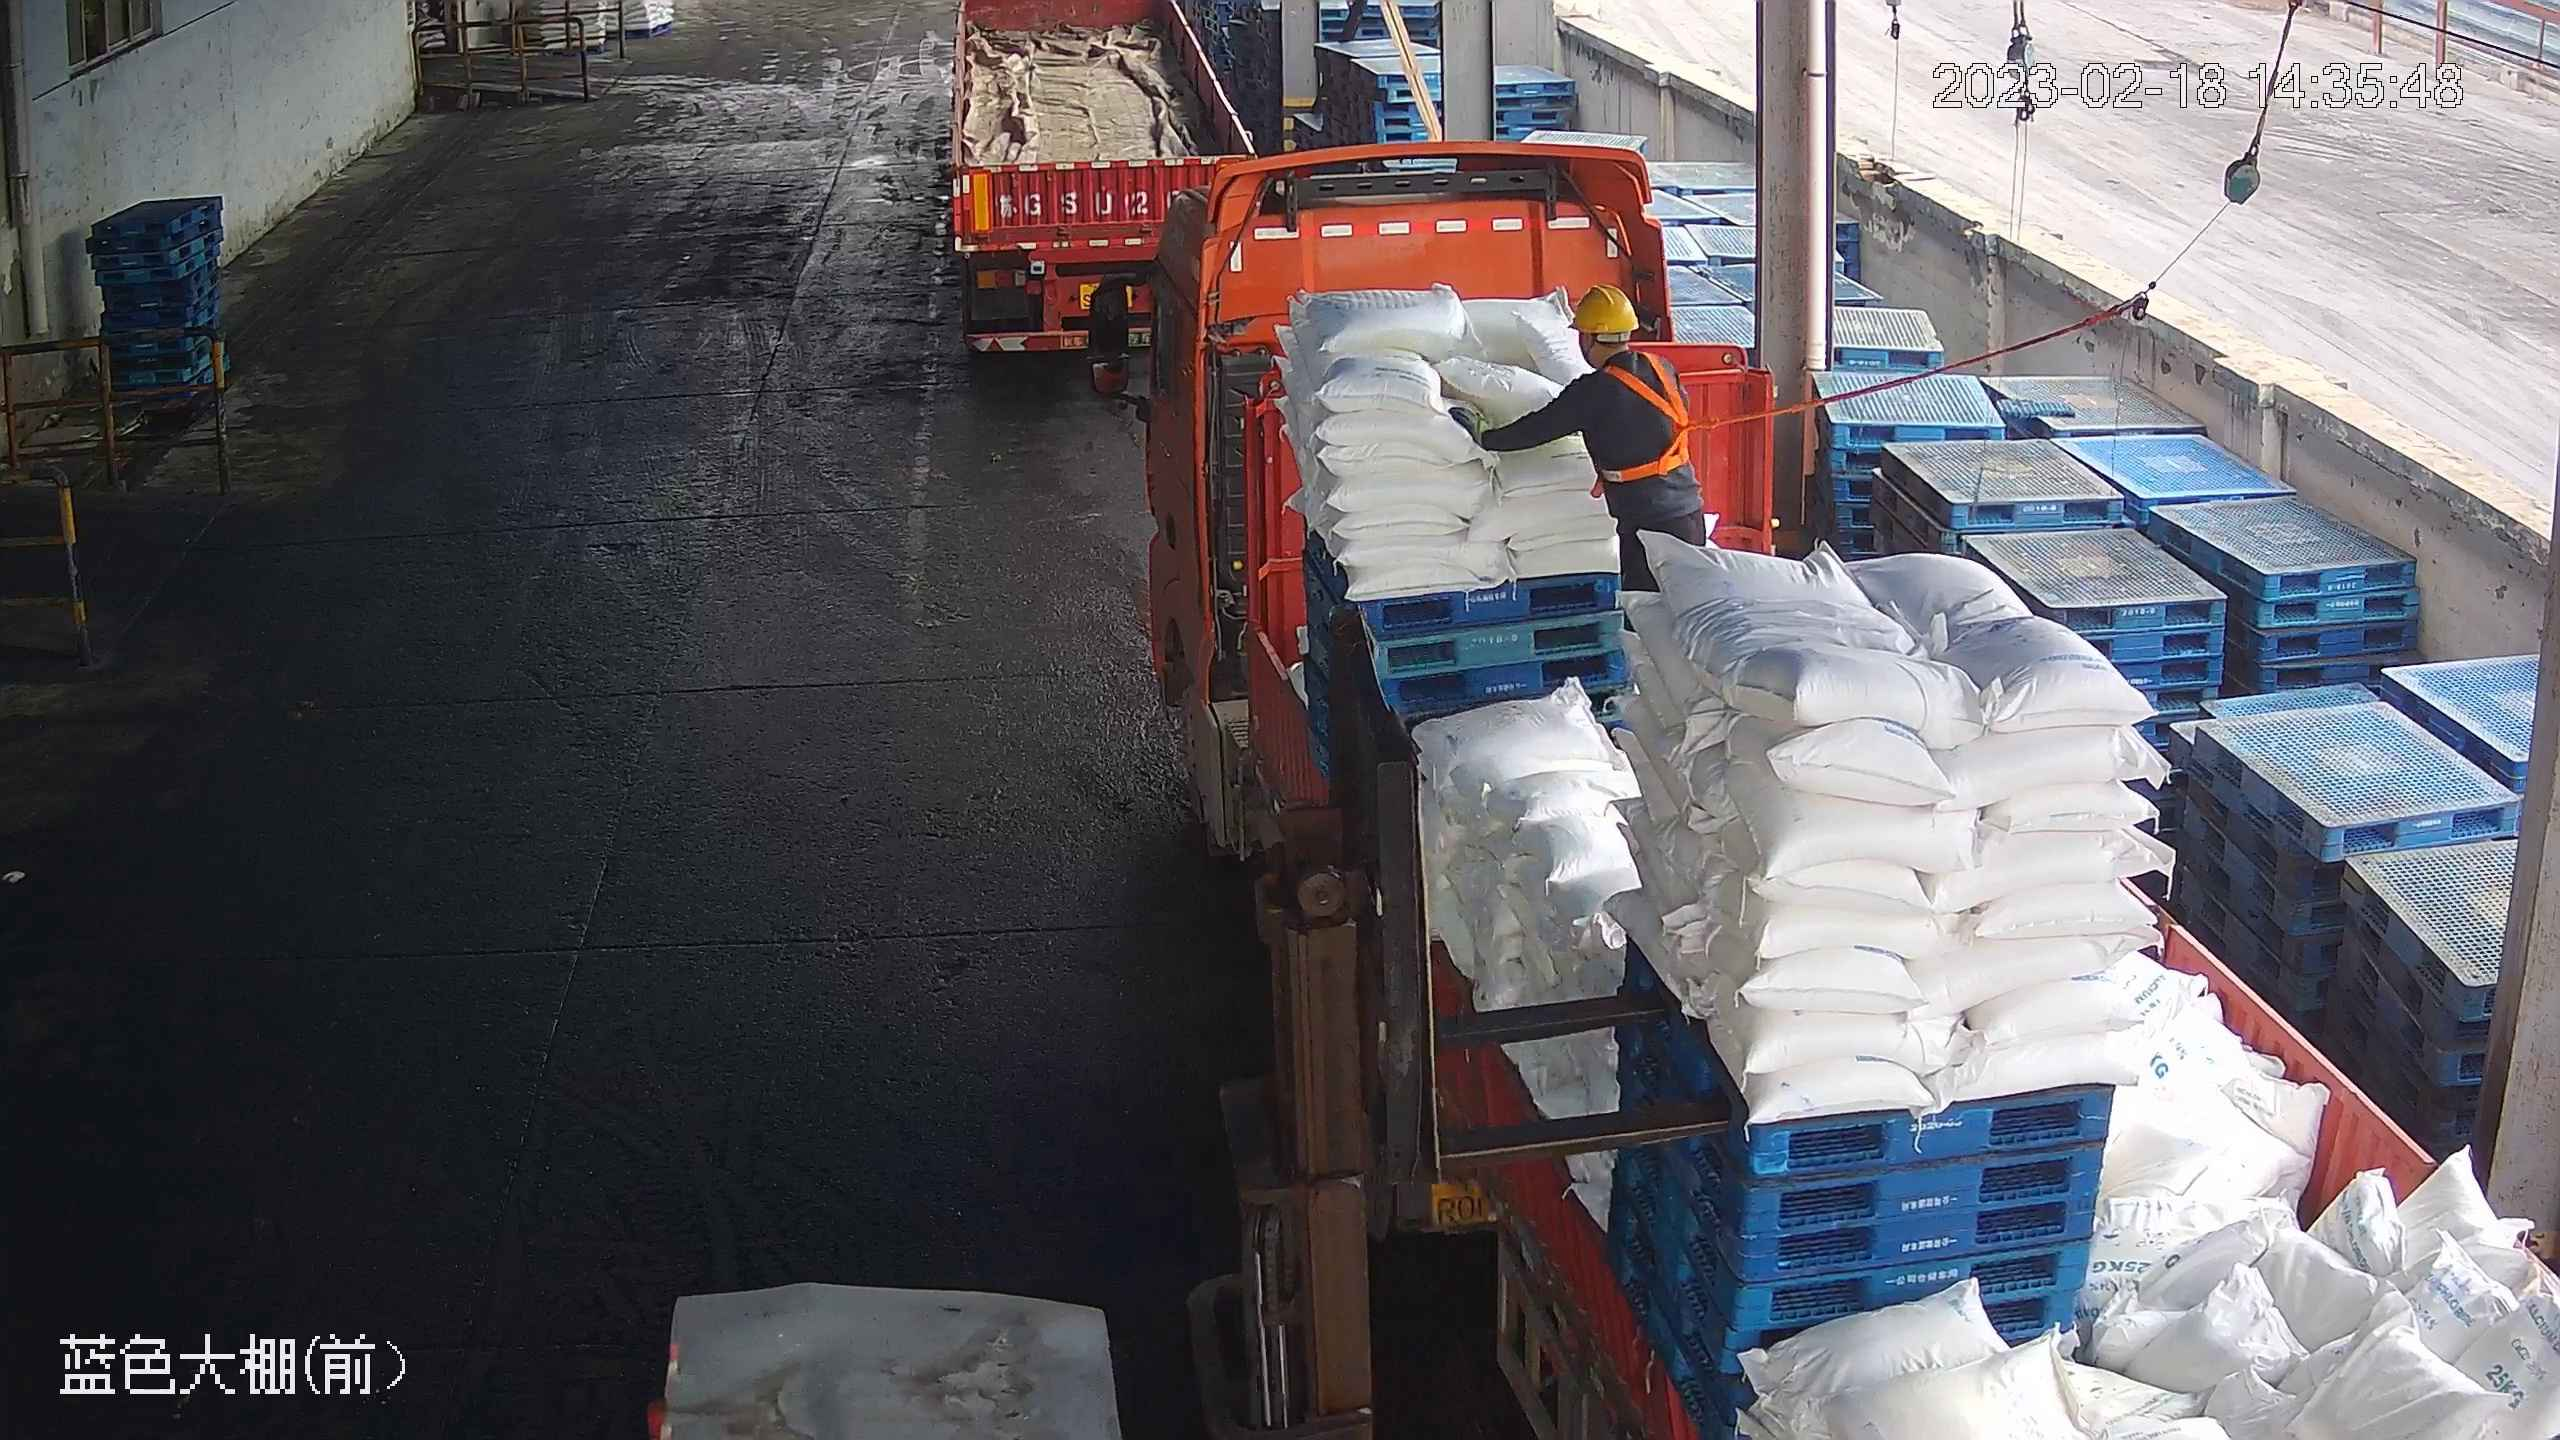belt: (1579, 348, 1707, 488)
head: (1539, 282, 1690, 438)
helmet: (1565, 285, 1640, 335)
people: (1448, 281, 1715, 638)
truck: (1074, 130, 2560, 1440), (939, 1, 1266, 403)
